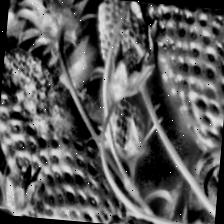Powdery Mildew Fruit: (0, 46, 85, 145)
